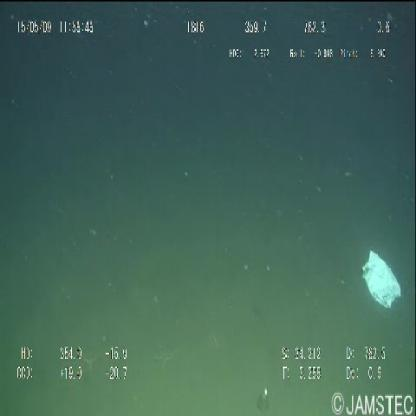Rác: (362, 251, 402, 309)
